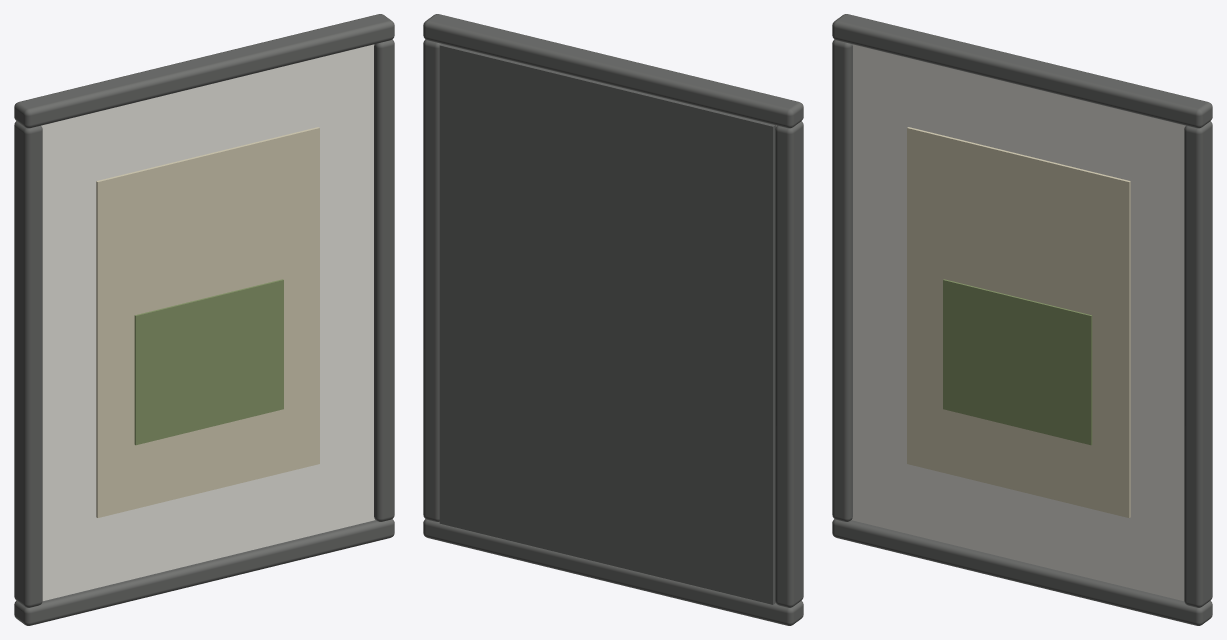
The model's file is cuadro-marco-gris.glb.
3 views of the same model, side by side, from view 1: azimuth 30°, elevation 25°; view 2: azimuth 150°, elevation 25°; view 3: azimuth 330°, elevation 25° (orthographic).
Parts seen in each view (by area): view 1: cuadro-marco-gris; view 2: cuadro-marco-gris; view 3: cuadro-marco-gris.
Part boxes in pixels (x1=…): cuadro-marco-gris: x1=14, y1=14, x2=394, y2=625; cuadro-marco-gris: x1=423, y1=14, x2=803, y2=625; cuadro-marco-gris: x1=832, y1=14, x2=1212, y2=625.
Bounding box in the file's own units: 0.3 × 0.4 × 0.02.
